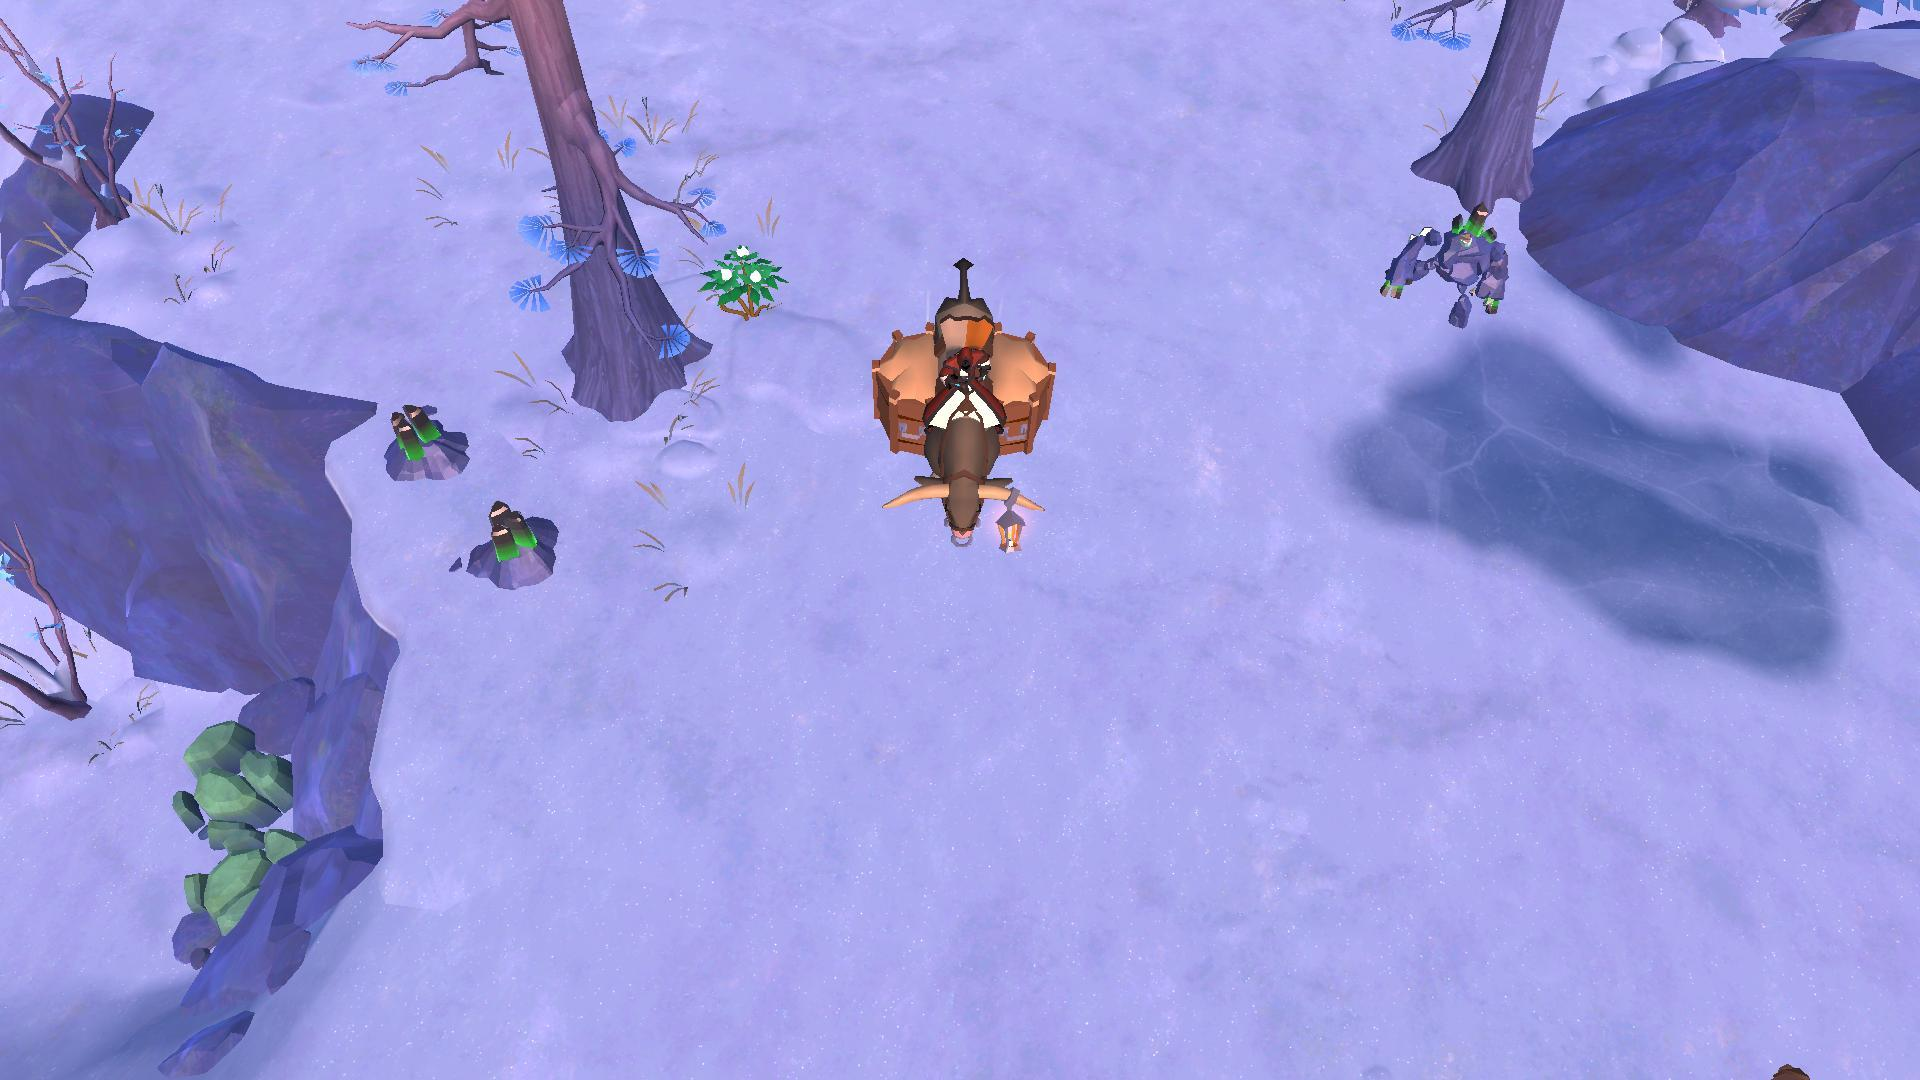fiber_t3: (686, 233, 790, 319)
ore_t3: (481, 493, 542, 567), (388, 398, 439, 459)
rock_t3: (162, 828, 319, 943), (167, 720, 310, 825)
